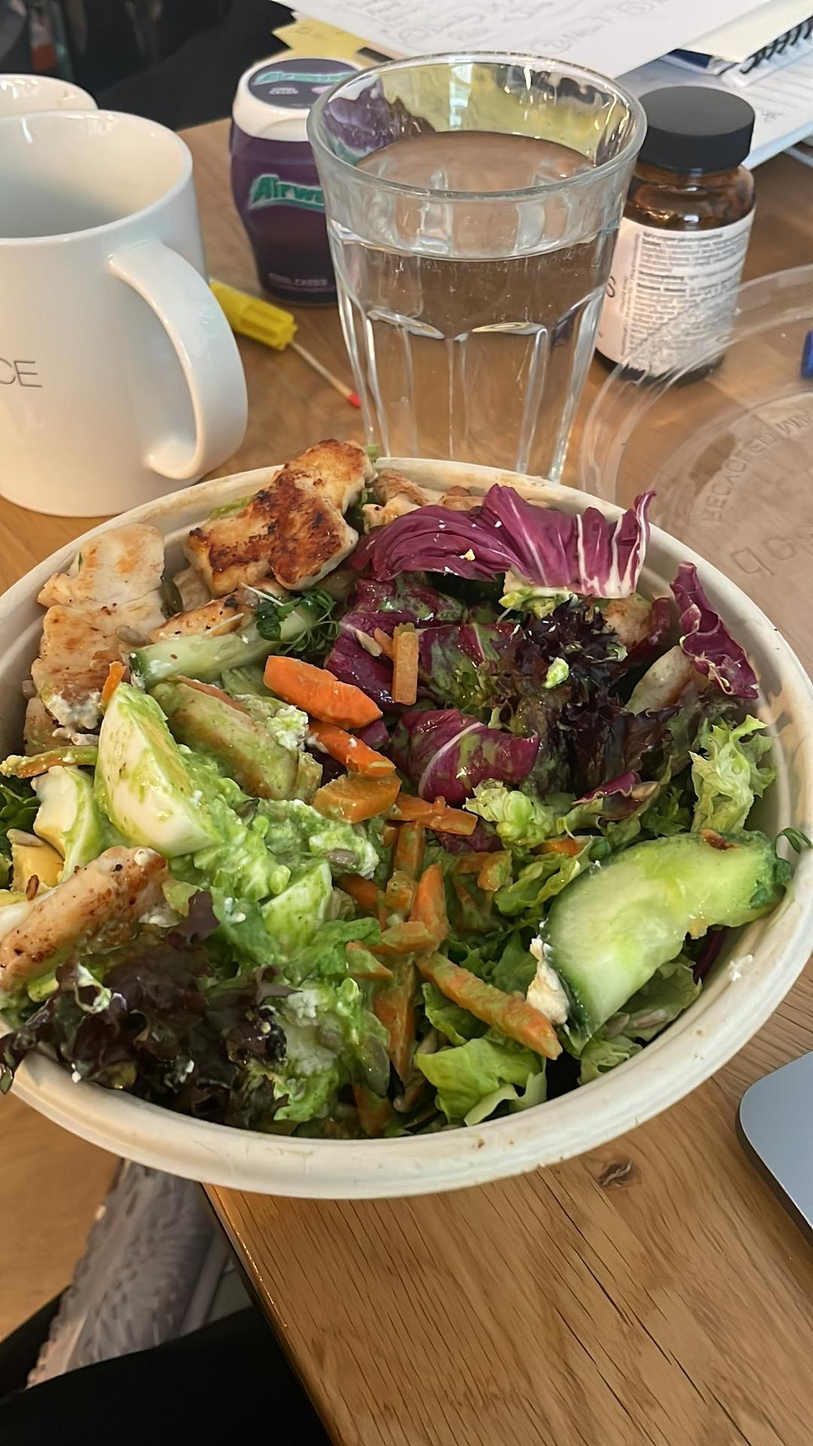carrot: (370, 832, 438, 1101), (418, 948, 559, 1068), (302, 718, 397, 822), (265, 660, 385, 738), (361, 777, 481, 848), (390, 624, 426, 706)
cucumber: (536, 814, 772, 1036)
lettuce: (6, 901, 292, 1120), (224, 795, 381, 1115), (403, 832, 557, 1121), (462, 611, 656, 810), (356, 482, 655, 591), (666, 561, 768, 835)
